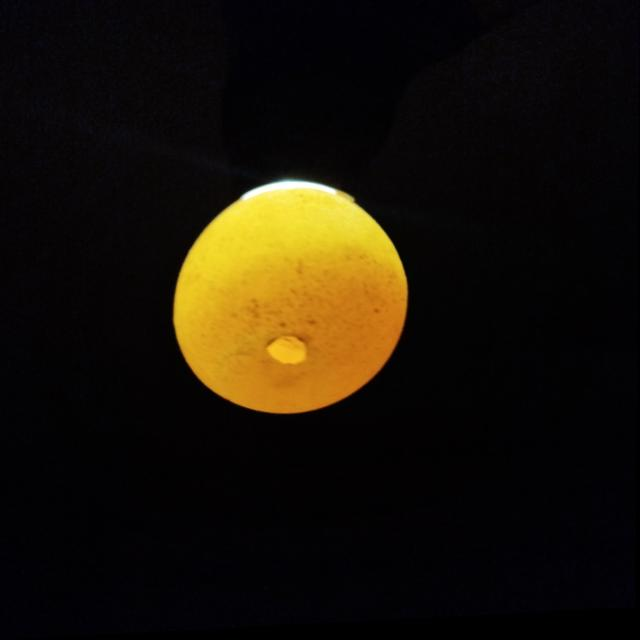Rachadura: (267, 339, 307, 368)
